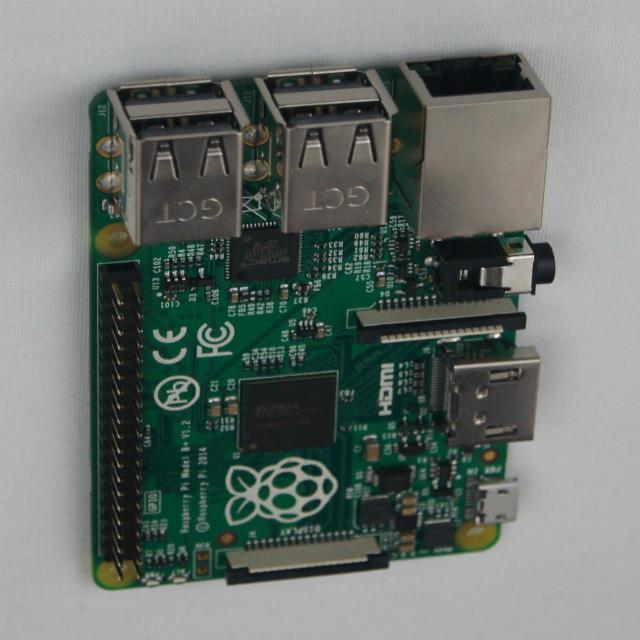Raspberry Pi 1 B-: (91, 55, 556, 589)
